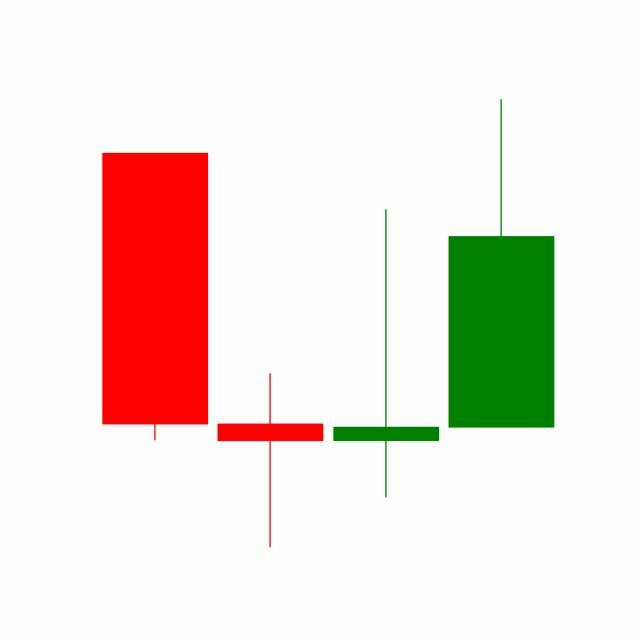Spinning Top: (329, 207, 445, 502)
